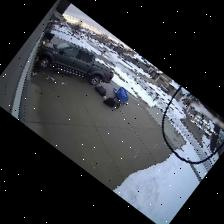person: (103, 97, 120, 108)
